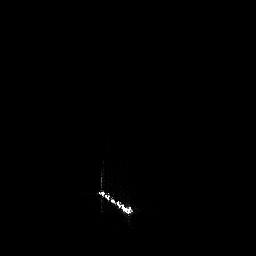ship: (96, 160, 136, 221)
